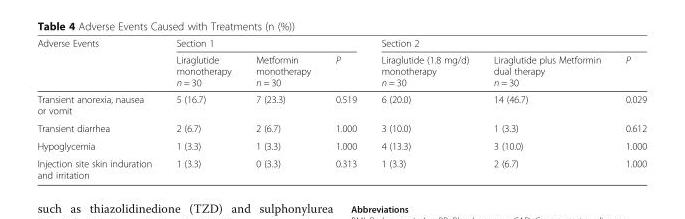table: (36, 37, 646, 180)
table column: (480, 37, 612, 180), (36, 37, 163, 180), (368, 37, 480, 180), (242, 37, 322, 180), (163, 37, 242, 180), (322, 37, 368, 180), (612, 37, 646, 180)
table column header: (36, 37, 646, 90)
table row: (36, 51, 646, 90), (36, 90, 646, 118), (36, 154, 646, 180), (36, 118, 646, 136), (36, 136, 646, 154), (36, 37, 646, 51)
table spanning cell: (36, 37, 163, 90), (368, 37, 646, 51), (163, 37, 368, 51)
